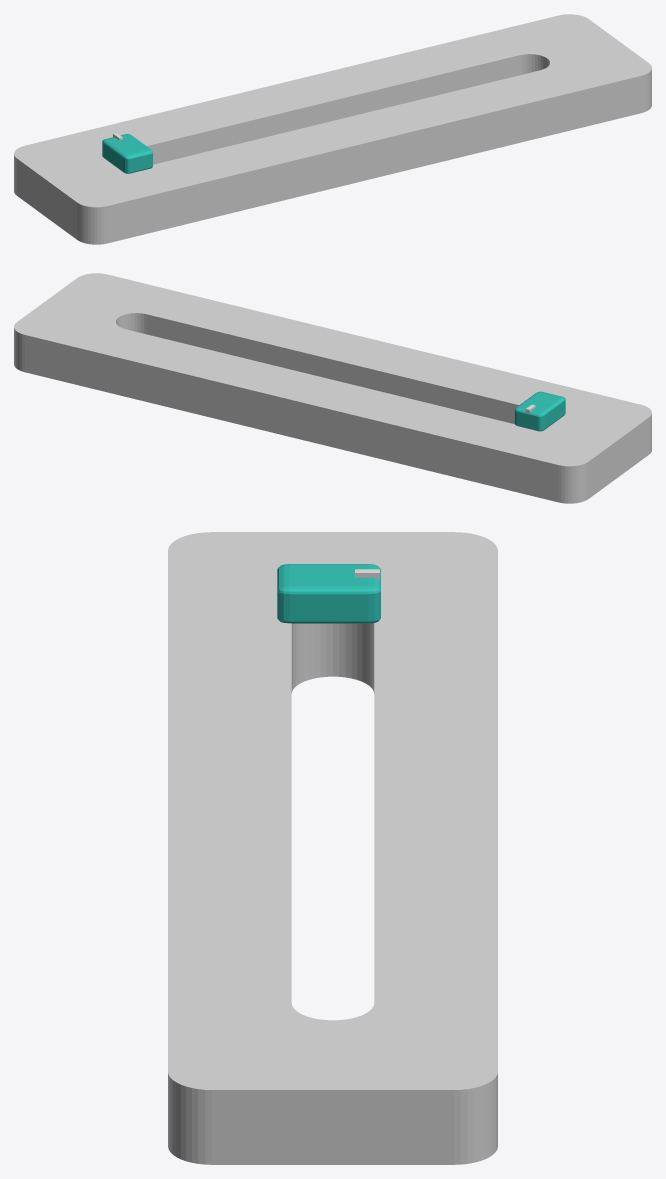
The model's file is slider_1025.fbx.
3 renders of one model, top to bottom at view 1: azimuth 30°, elevation 25°; view 2: azimuth 150°, elevation 25°; view 3: azimuth 270°, elevation 25°, orthographic. The views are drawn at different scales.
Visible parts, largest first — view 1: sliderplane.002, Cube.004; view 2: sliderplane.002, Cube.004; view 3: sliderplane.002, Cube.004.
Part boxes in pixels (left/top/right/bottom): sliderplane.002: left=14, top=14, right=651, bottom=244; Cube.004: left=102, top=133, right=152, bottom=173; sliderplane.002: left=14, top=273, right=651, bottom=503; Cube.004: left=515, top=391, right=565, bottom=431; sliderplane.002: left=168, top=532, right=497, bottom=1164; Cube.004: left=277, top=564, right=380, bottom=623.
Size of the model in its own units: 1600 by 400 by 151.
